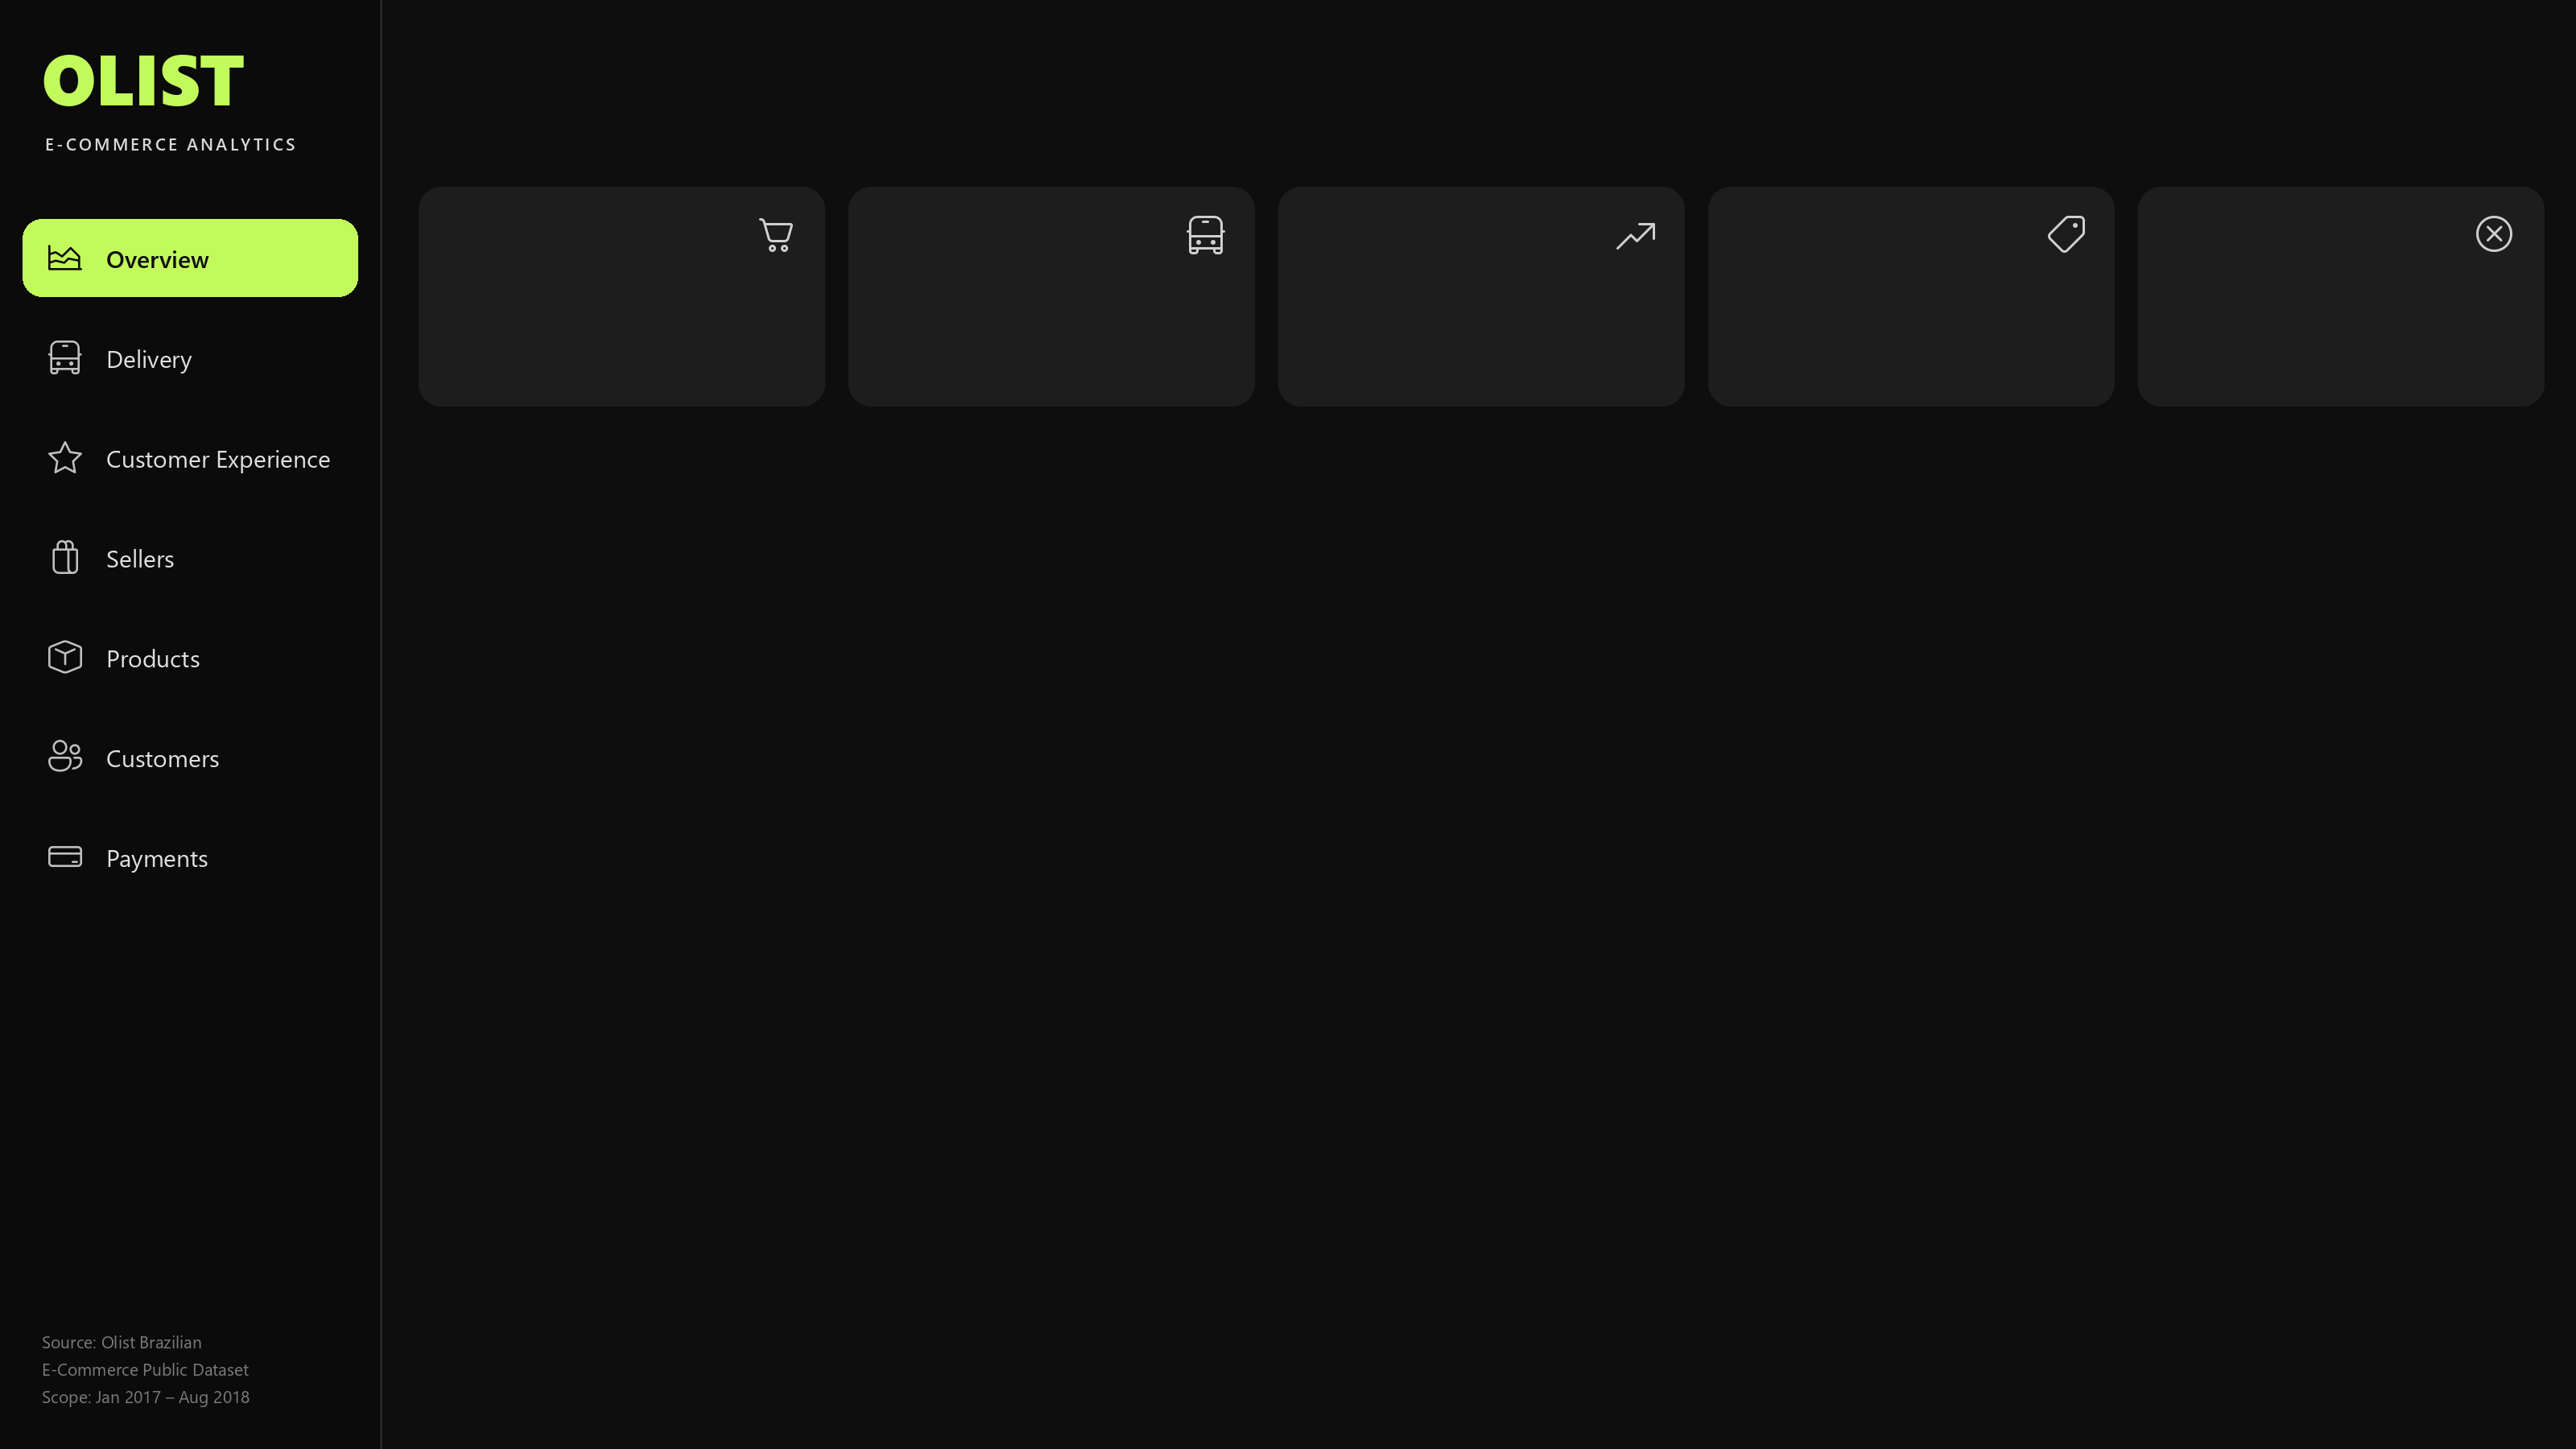

Layout of this report page (visuals, bound fields, positions):
{"tool":"powerbi","page":{"name":"Overview","canvas":[1600,900],"ordinal":0},"visuals":[{"type":"textbox","box":[260,16,860,90],"z":0},{"type":"textbox","box":[260,874,1320,22],"z":1000},{"type":"cardVisual","fields":{"Data":["_Measures.Total Orders"]},"box":[276,128,188,84],"z":2000},{"type":"cardVisual","fields":{"Data":["_Measures.Delivered Orders"]},"box":[543,128,188,84],"z":3000},{"type":"cardVisual","fields":{"Data":["_Measures.Delivered Sales"]},"box":[810,128,188,84],"z":4000},{"type":"cardVisual","fields":{"Data":["_Measures.Avg Order Value"]},"box":[1077,128,188,84],"z":5000},{"type":"cardVisual","fields":{"Data":["_Measures.Cancellation Rate"]},"box":[1344,128,188,84],"z":6000},{"type":"cardVisual","fields":{"Data":["_Measures.Total Orders Δ text"]},"box":[276,214,228,28],"z":7000},{"type":"cardVisual","fields":{"Data":["_Measures.Delivered Orders Δ text"]},"box":[543,214,228,28],"z":8000},{"type":"cardVisual","fields":{"Data":["_Measures.Delivered Sales Δ text"]},"box":[810,214,228,28],"z":9000},{"type":"cardVisual","fields":{"Data":["_Measures.Avg Order Value Δ text"]},"box":[1077,214,228,28],"z":10000},{"type":"cardVisual","fields":{"Data":["_Measures.Cancellation Rate Δ text"]},"box":[1344,214,228,28],"z":11000},{"type":"lineStackedColumnComboChart","title":"Monthly Sales & Delivered Orders","fields":{"Category":["Date.YearMonth"],"Y":["_Measures.Delivered Sales"],"Y2":["_Measures.Delivered Orders"]},"box":[260,268,872,316],"z":12000},{"type":"clusteredBarChart","title":"Delivered Sales by Customer State","fields":{"Category":["States.state"],"Y":["_Measures.Delivered Sales"]},"box":[1148,268,432,316],"z":13000},{"type":"lineChart","title":"Average Order Value by Month","fields":{"Category":["Date.YearMonth"],"Y":["_Measures.Avg Order Value"]},"box":[260,600,652,270],"z":14000},{"type":"lineStackedColumnComboChart","title":"Orders Not Delivered by Month","fields":{"Category":["Date.YearMonth"],"Y":["_Measures.Orders Canceled","_Measures.Orders Unavailable","_Measures.Orders In Progress"],"Y2":["_Measures.Cancellation Rate"]},"box":[928,600,652,270],"z":15000},{"type":"actionButton","box":[14,136,208,48],"z":16000},{"type":"actionButton","box":[14,198,208,48],"z":17000},{"type":"actionButton","box":[14,260,208,48],"z":18000},{"type":"actionButton","box":[14,322,208,48],"z":19000},{"type":"actionButton","box":[14,384,208,48],"z":20000},{"type":"actionButton","box":[14,446,208,48],"z":21000},{"type":"actionButton","box":[14,508,208,48],"z":22000},{"type":"slicer","fields":{"Values":["Date.Year","Date.Month"]},"box":[1124,22,220,70],"z":23000},{"type":"slicer","fields":{"Values":["States.state_name"]},"box":[1360,22,220,70],"z":24000}]}

Visuals, with their boxes on the page's 1600x900 design canvas (x1, y1, x2, y2). These are canvas units, not pixel positions in the 2576x1449 screenshot, which may show the page scaled, cropped or inside an application window:
textbox: bbox=[260, 16, 1120, 106]
textbox: bbox=[260, 874, 1580, 896]
cardVisual - _Measures.Total Orders: bbox=[276, 128, 464, 212]
cardVisual - _Measures.Delivered Orders: bbox=[543, 128, 731, 212]
cardVisual - _Measures.Delivered Sales: bbox=[810, 128, 998, 212]
cardVisual - _Measures.Avg Order Value: bbox=[1077, 128, 1265, 212]
cardVisual - _Measures.Cancellation Rate: bbox=[1344, 128, 1532, 212]
cardVisual - _Measures.Total Orders Δ text: bbox=[276, 214, 504, 242]
cardVisual - _Measures.Delivered Orders Δ text: bbox=[543, 214, 771, 242]
cardVisual - _Measures.Delivered Sales Δ text: bbox=[810, 214, 1038, 242]
cardVisual - _Measures.Avg Order Value Δ text: bbox=[1077, 214, 1305, 242]
cardVisual - _Measures.Cancellation Rate Δ text: bbox=[1344, 214, 1572, 242]
"Monthly Sales & Delivered Orders" lineStackedColumnComboChart: bbox=[260, 268, 1132, 584]
"Delivered Sales by Customer State" clusteredBarChart: bbox=[1148, 268, 1580, 584]
"Average Order Value by Month" lineChart: bbox=[260, 600, 912, 870]
"Orders Not Delivered by Month" lineStackedColumnComboChart: bbox=[928, 600, 1580, 870]
actionButton: bbox=[14, 136, 222, 184]
actionButton: bbox=[14, 198, 222, 246]
actionButton: bbox=[14, 260, 222, 308]
actionButton: bbox=[14, 322, 222, 370]
actionButton: bbox=[14, 384, 222, 432]
actionButton: bbox=[14, 446, 222, 494]
actionButton: bbox=[14, 508, 222, 556]
slicer - Date.Year x Date.Month: bbox=[1124, 22, 1344, 92]
slicer - States.state_name: bbox=[1360, 22, 1580, 92]
